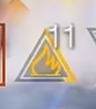1fire: (12, 52, 79, 86)
